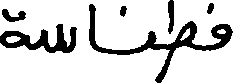ا: (89, 1, 96, 51)
ة: (0, 6, 26, 47)
س: (40, 21, 75, 52)
ط: (167, 0, 195, 67)
ف: (205, 0, 231, 51)
ن: (118, 3, 155, 55)
